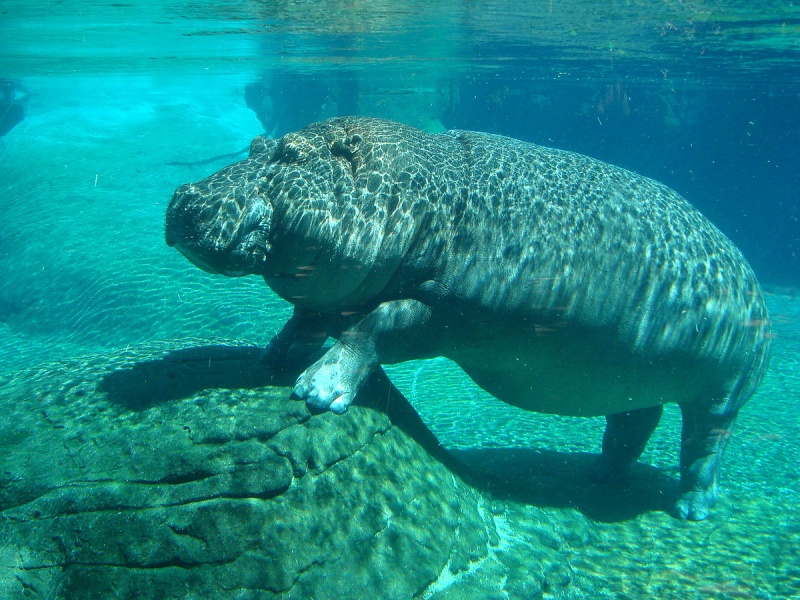hipopotamo: (166, 117, 778, 544)
